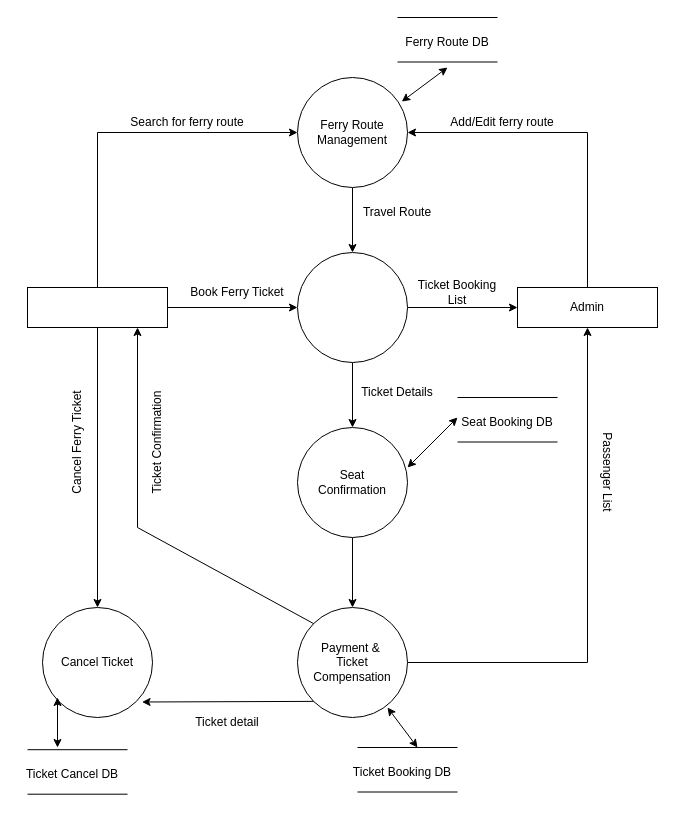
The diagram is 675 pixels wide and 813 high, and some of its shapes have lost their labels. Each missing label, with the centre of its shape:
Ferry Ticket Reservation: point (352, 307)
Passenger: point (97, 307)
